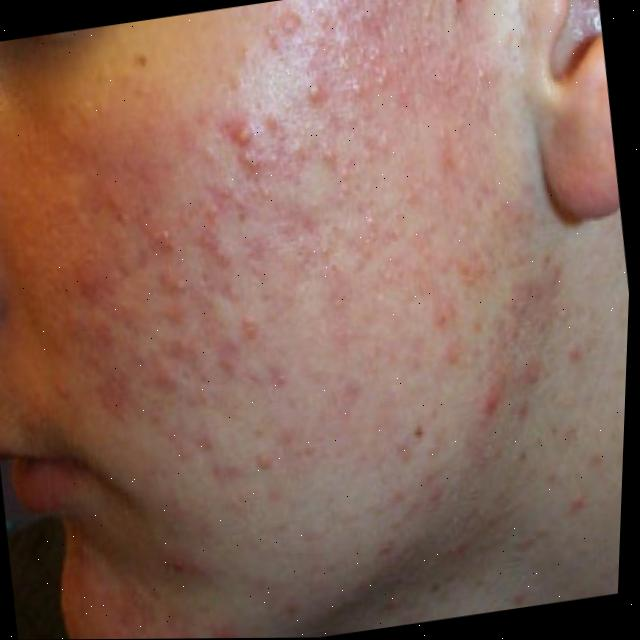Acne: (25, 26, 611, 592)
